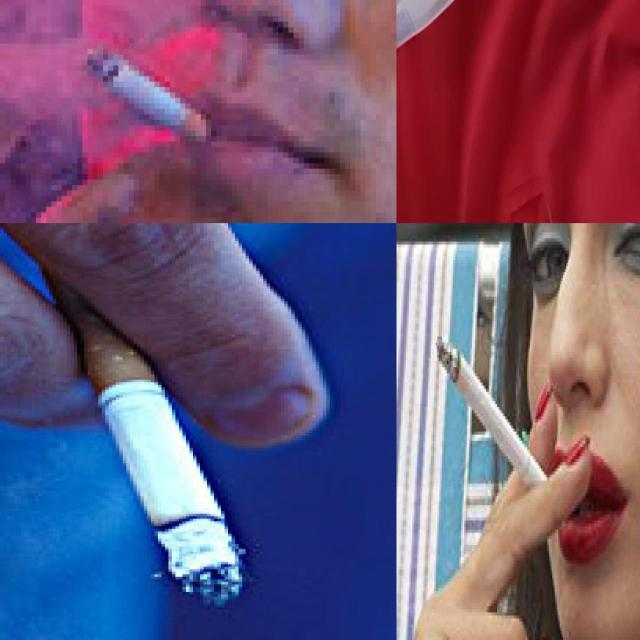smoking: (77, 317, 246, 607), (429, 324, 541, 484), (72, 38, 216, 136)
